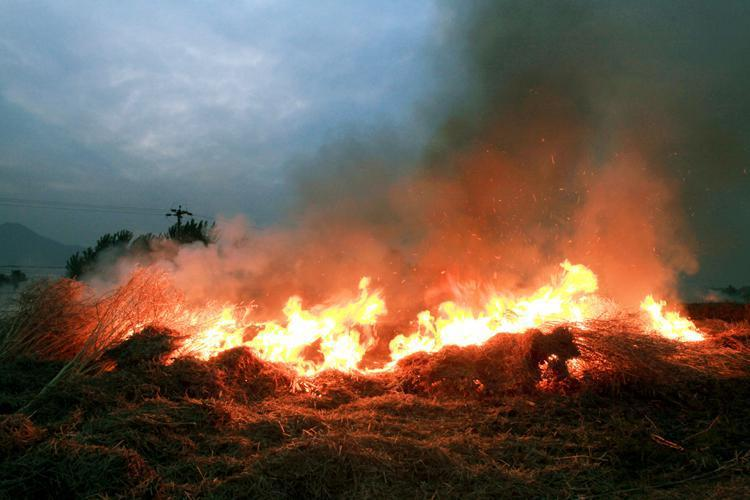fire: (92, 271, 703, 369)
